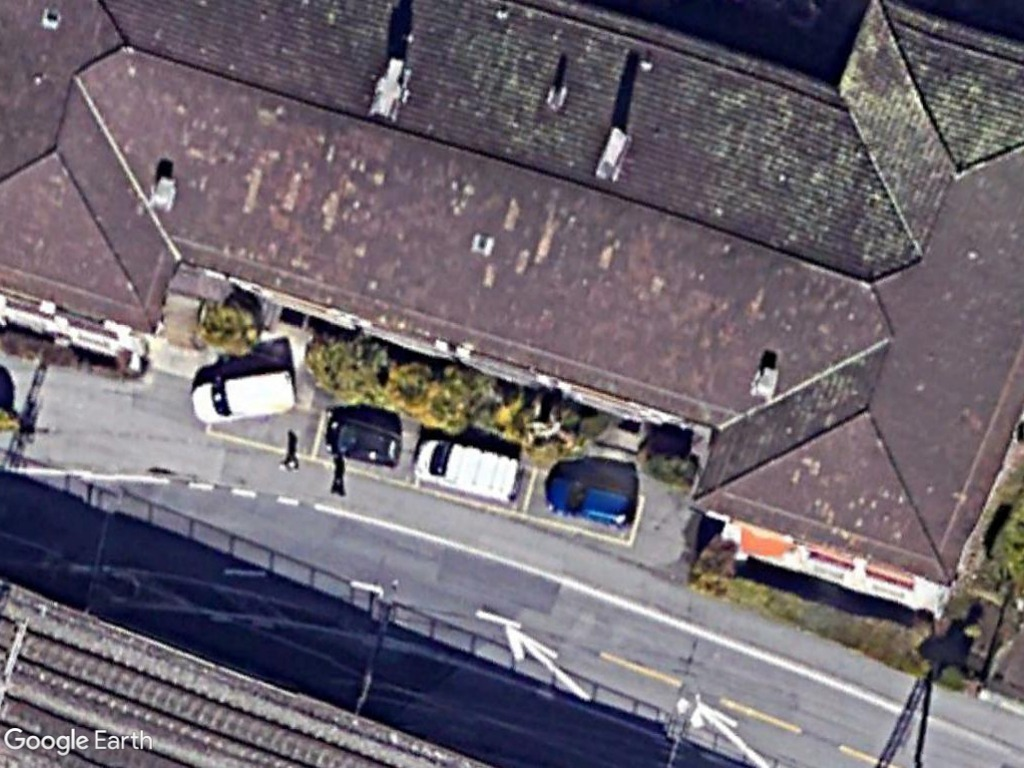car: (545, 471, 641, 532), (325, 412, 406, 468)
van: (410, 437, 525, 505), (188, 365, 301, 427)
